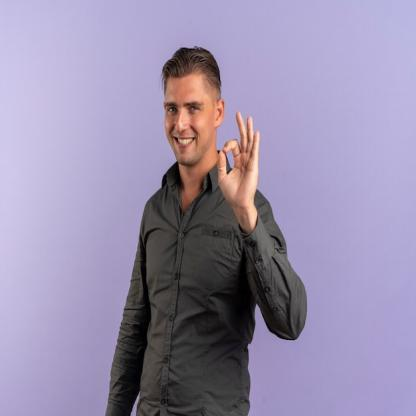ok: (216, 110, 261, 211)
